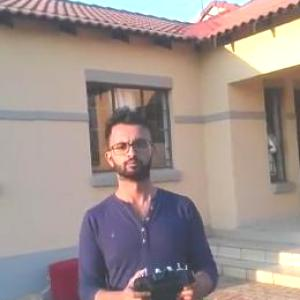follow: (69, 103, 223, 299)
null: (1, 273, 64, 299)
